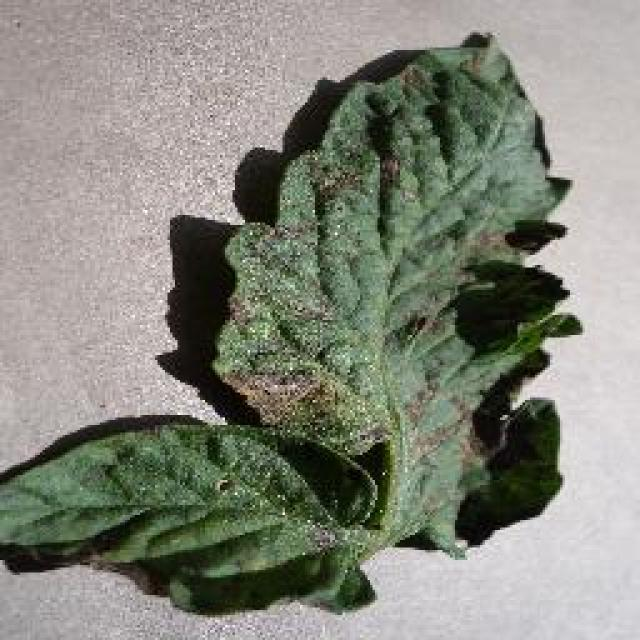Tomato_Early_Blight: (205, 115, 594, 605)
